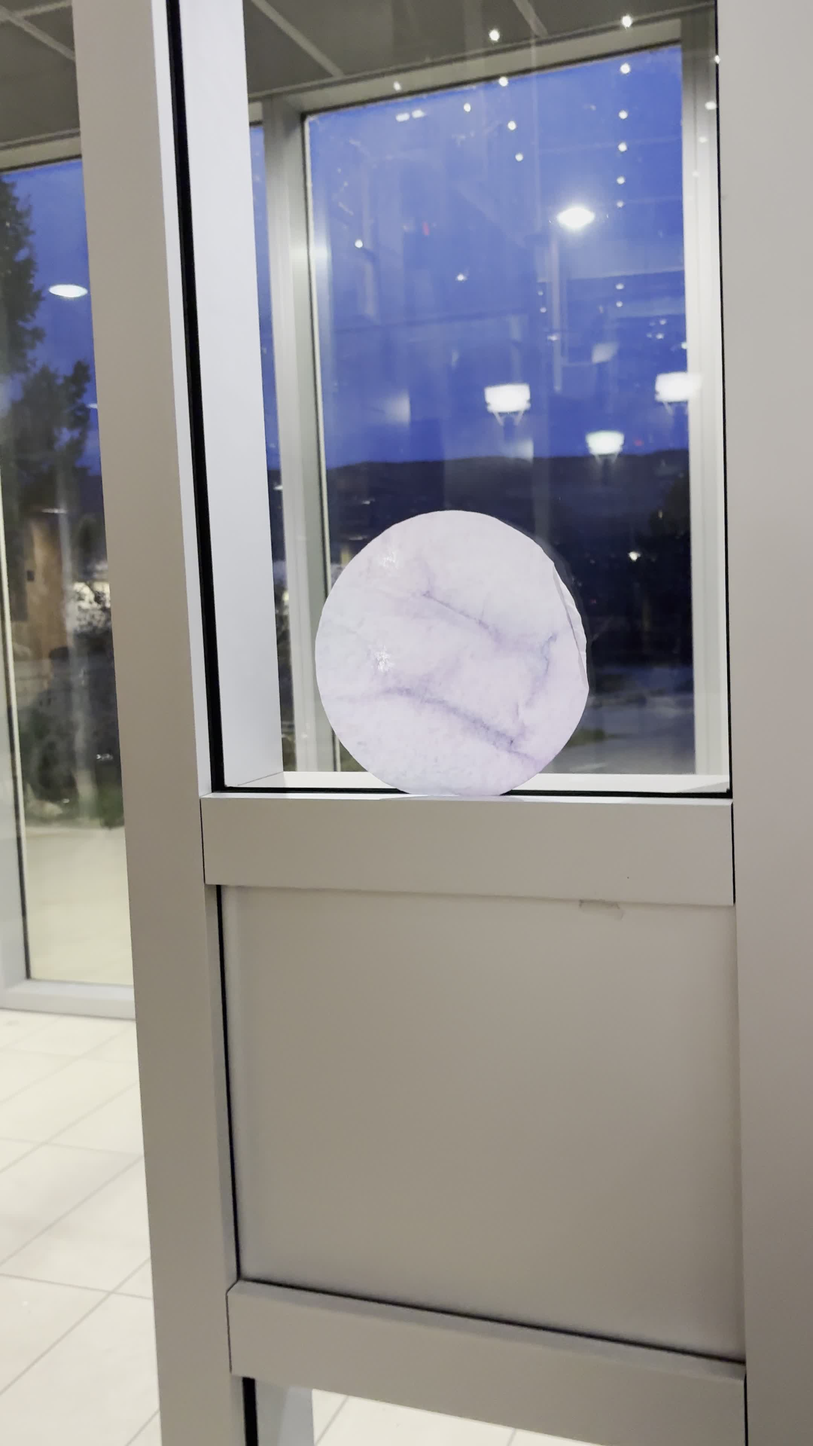Target: (312, 511, 589, 798)
